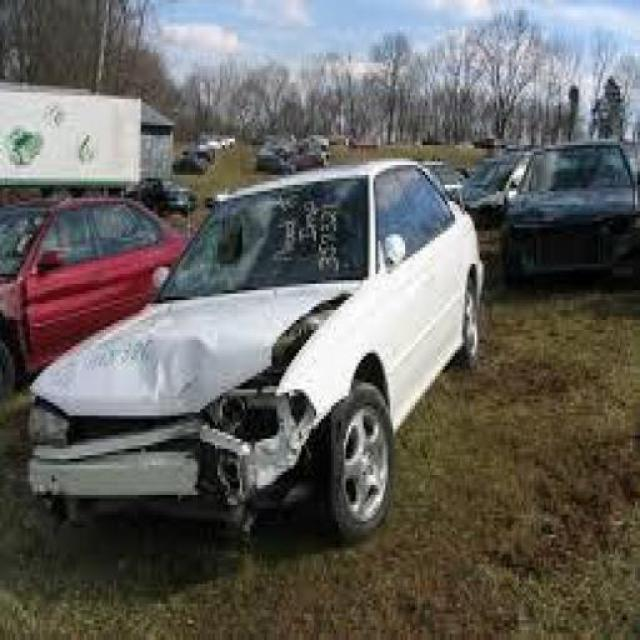crush: (32, 277, 365, 522)
